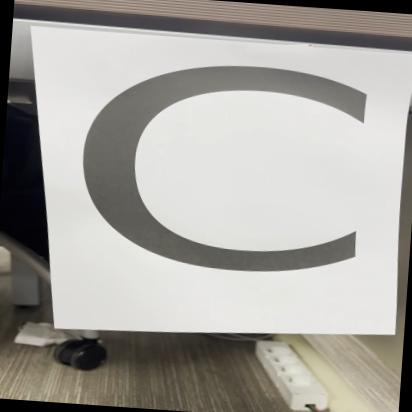seat: (22, 16, 412, 357)
